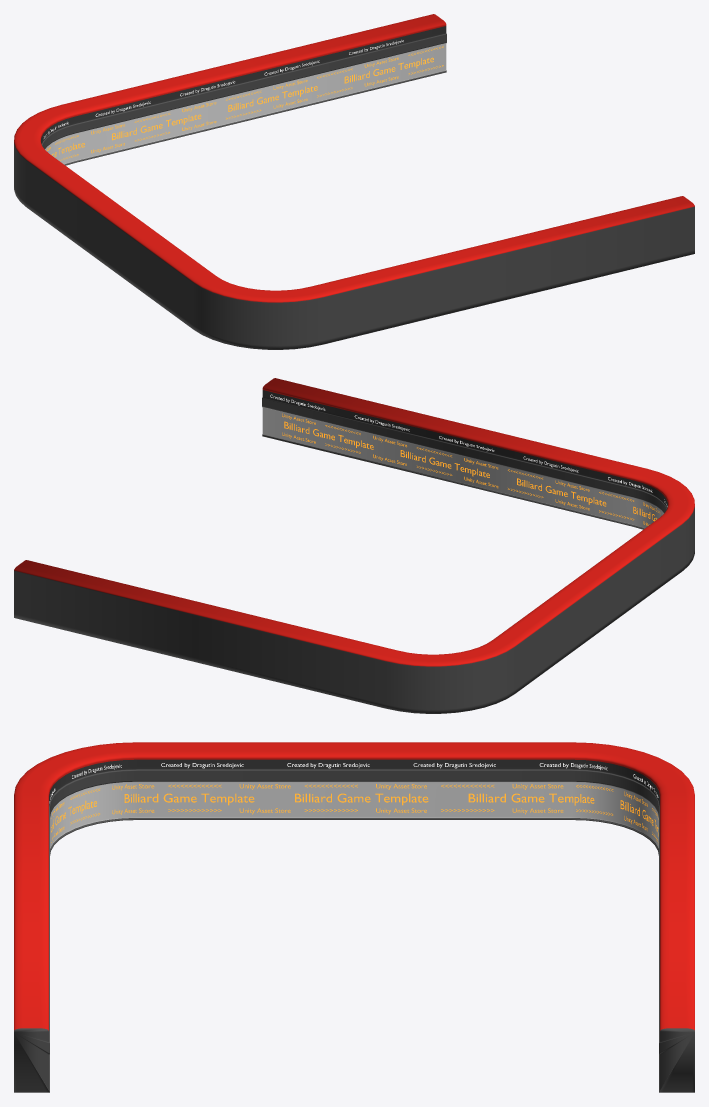
3 views of the same model, one above another, from view 1: azimuth 30°, elevation 25°; view 2: azimuth 150°, elevation 25°; view 3: azimuth 270°, elevation 25° (orthographic). The views are drawn at different scales.
Parts seen in each view (by area): view 1: Cube.002, Text.004, Text.005; view 2: Cube.002, Text.004, Text.005; view 3: Cube.002, Text.004, Text.005, Text.007, Text.002.
Part boxes in pixels (box(x1,y1,x2,y2)): Cube.002: box(14, 14, 694, 349); Text.004: box(51, 57, 433, 156); Text.005: box(44, 40, 403, 138); Cube.002: box(14, 378, 694, 713); Text.004: box(284, 421, 656, 521); Text.005: box(270, 394, 667, 506); Cube.002: box(14, 742, 694, 1092); Text.004: box(51, 793, 658, 836); Text.005: box(49, 763, 658, 803); Text.007: box(51, 784, 647, 818); Text.002: box(51, 808, 647, 842).
Size of the model in its own units: 1239 by 129 by 1239.
